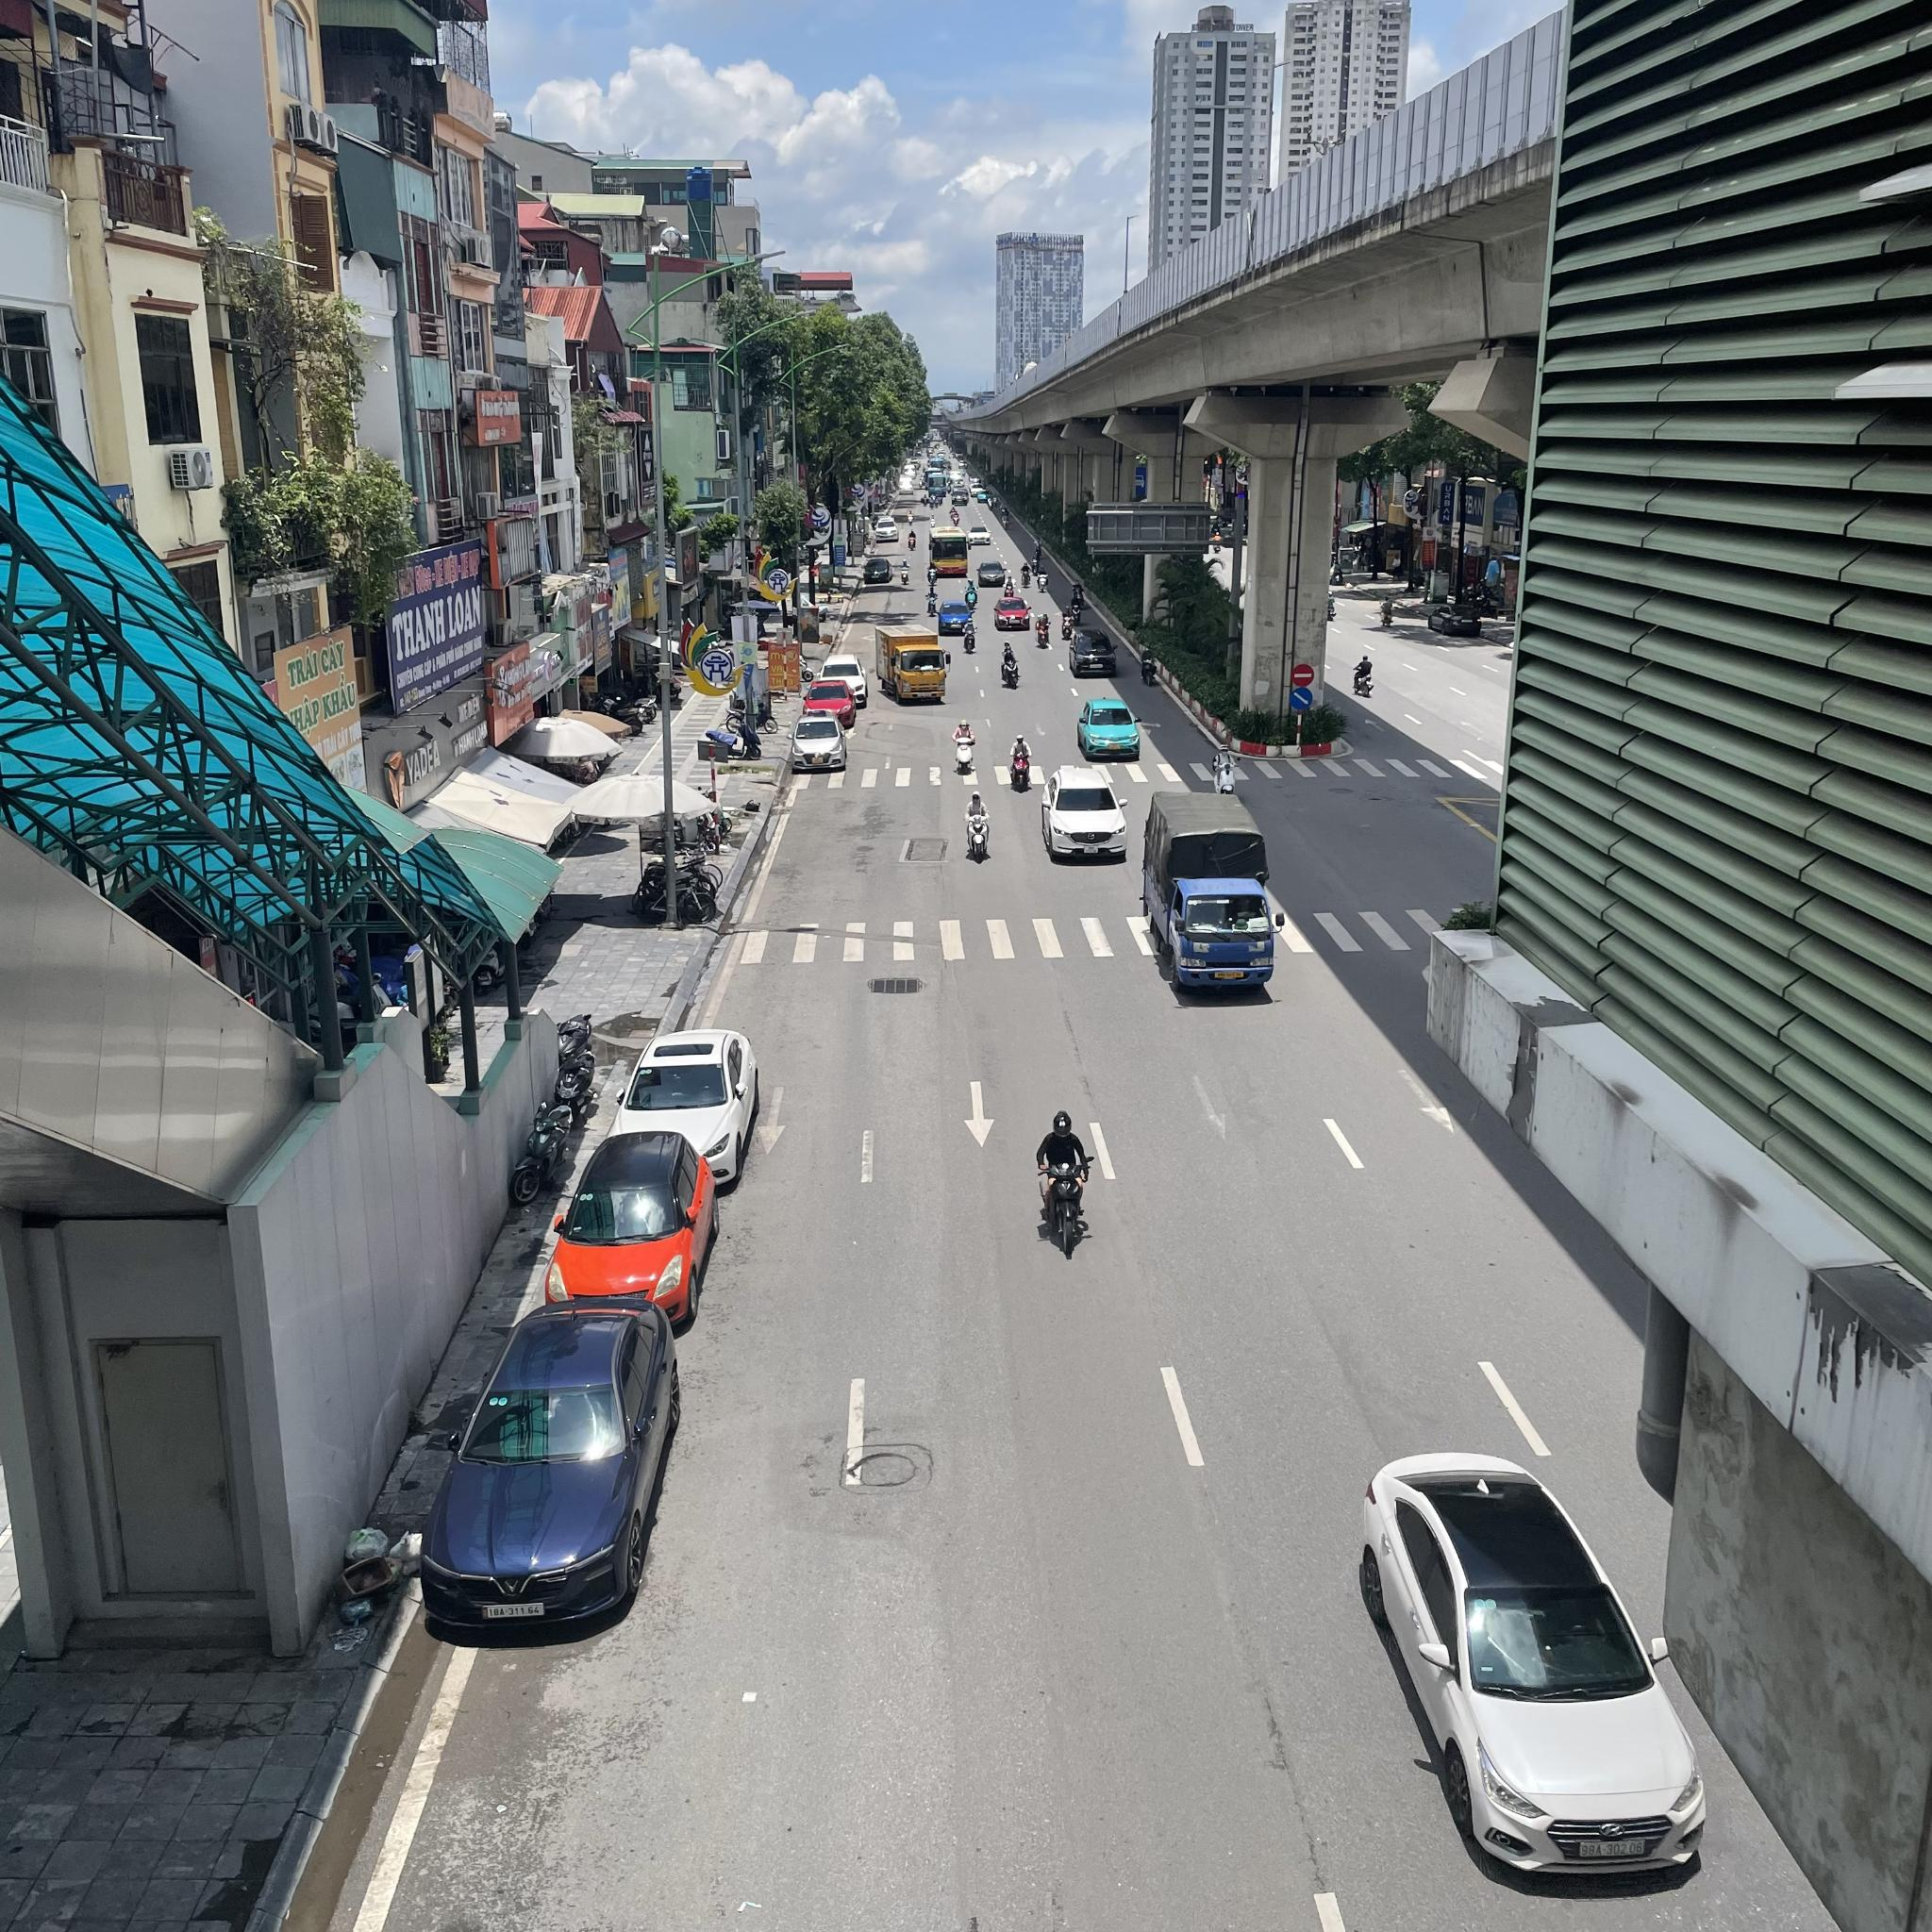car: (1361, 1443, 1711, 1873), (418, 1298, 680, 1649), (544, 1130, 721, 1330), (1141, 791, 1285, 994), (605, 1027, 761, 1191), (1039, 767, 1130, 863), (874, 623, 952, 704), (1075, 696, 1142, 760), (790, 714, 849, 774), (818, 653, 868, 710), (1067, 627, 1120, 679), (804, 682, 858, 729), (927, 525, 972, 576), (991, 598, 1030, 631), (940, 601, 974, 633), (862, 558, 893, 584), (976, 560, 1007, 587)
motobike: (1035, 1109, 1094, 1258), (963, 790, 991, 861), (1210, 741, 1241, 801), (952, 718, 977, 774), (1008, 733, 1031, 794), (1001, 641, 1021, 689), (1139, 642, 1158, 690), (1034, 611, 1053, 650), (961, 617, 979, 654), (1059, 605, 1074, 642), (964, 577, 979, 610), (1070, 580, 1086, 608), (1002, 575, 1018, 601), (925, 587, 940, 615), (1036, 566, 1050, 594), (926, 561, 939, 587), (1020, 561, 1030, 591), (1030, 552, 1041, 577), (901, 559, 910, 586), (1034, 536, 1043, 560)
